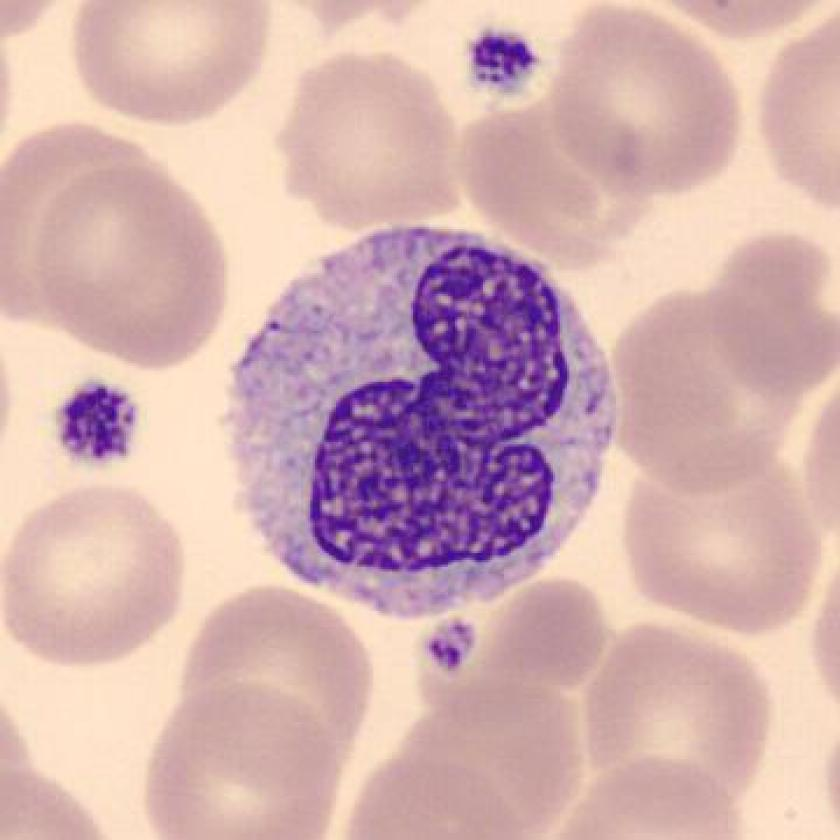monocyte: (209, 212, 643, 628)
